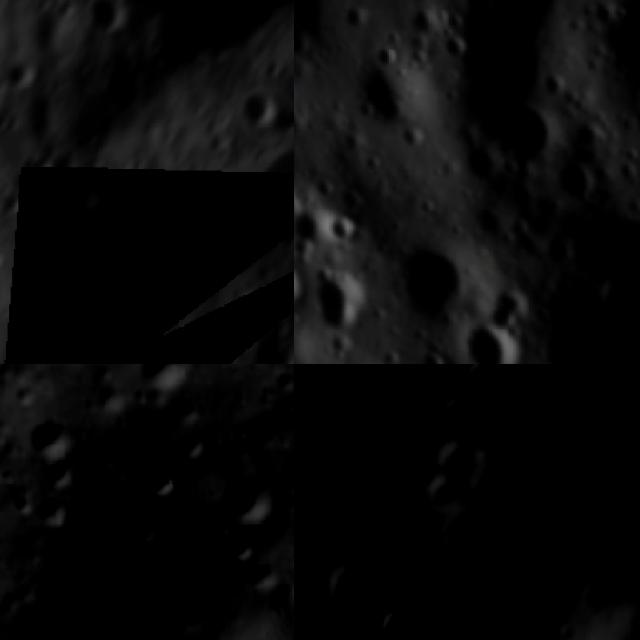crater: (63, 535, 218, 640), (311, 540, 408, 639), (384, 232, 481, 330), (473, 86, 569, 176), (505, 444, 586, 525), (213, 464, 290, 539), (19, 398, 90, 472), (446, 303, 532, 364), (304, 264, 371, 334), (308, 188, 374, 256), (540, 140, 603, 208), (427, 434, 487, 493), (124, 364, 201, 409), (251, 150, 294, 227), (168, 419, 222, 472), (240, 550, 292, 602), (140, 459, 189, 512), (366, 598, 426, 640), (496, 369, 546, 418), (32, 488, 79, 538), (218, 526, 268, 572), (40, 450, 86, 499), (436, 382, 478, 433), (58, 168, 105, 212), (434, 21, 475, 63), (74, 0, 131, 30), (242, 90, 280, 133), (364, 27, 404, 67), (294, 250, 314, 323), (294, 364, 312, 410), (180, 626, 236, 640), (226, 201, 251, 223), (12, 60, 33, 86), (120, 244, 145, 264), (175, 196, 190, 216), (57, 0, 80, 12), (136, 152, 150, 168)
